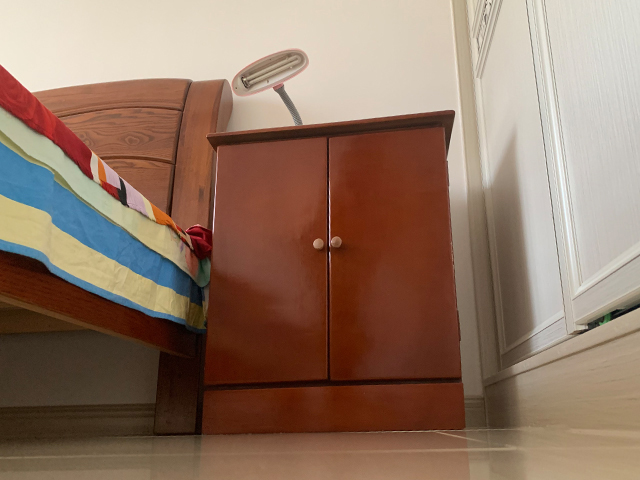bed: (1, 63, 234, 440), (449, 1, 640, 434)
cabinet: (199, 109, 470, 432)
